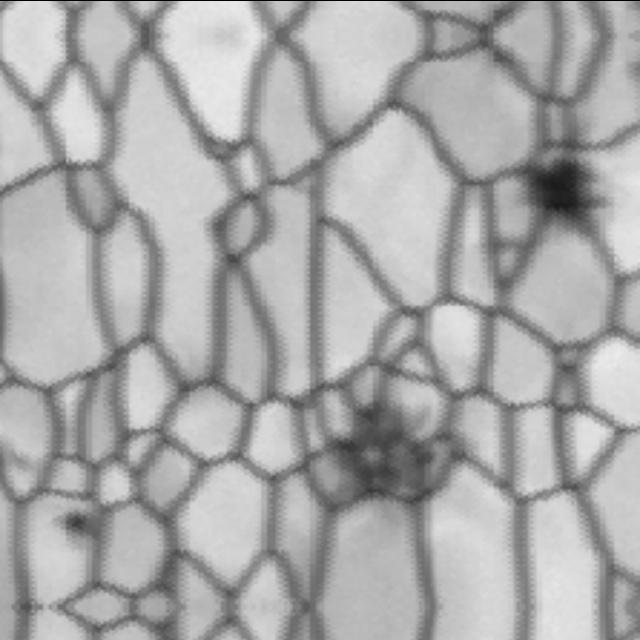good_void: (304, 371, 487, 525), (495, 131, 631, 250), (43, 498, 96, 541)
